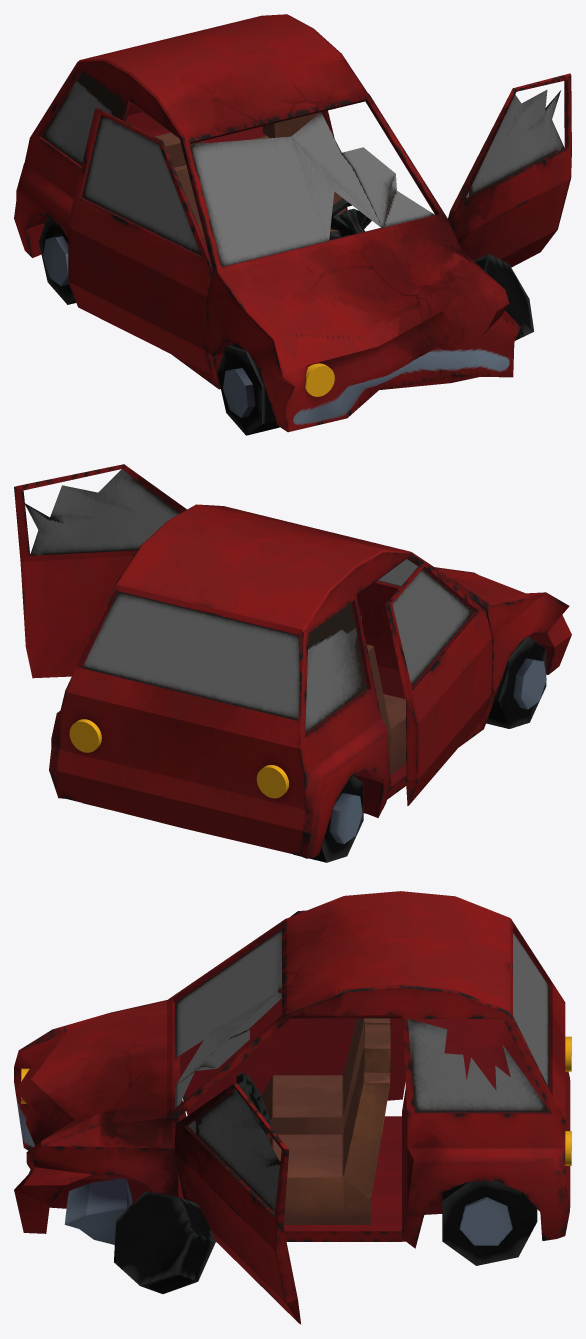
Rendered from voiture.fbx.
3 views of the same model, one above another, from view 1: azimuth 30°, elevation 25°; view 2: azimuth 150°, elevation 25°; view 3: azimuth 270°, elevation 25° (orthographic). The views are drawn at different scales.
Parts seen in each view (by area): view 1: voiture; view 2: voiture; view 3: voiture.
Boxes of the visible parts, x1,y1,x2,y2 form: voiture: (14,14,571,435); voiture: (14,464,571,862); voiture: (14,891,571,1324).
Size of the model in its own units: 0.2342 by 0.1273 by 0.2387.
